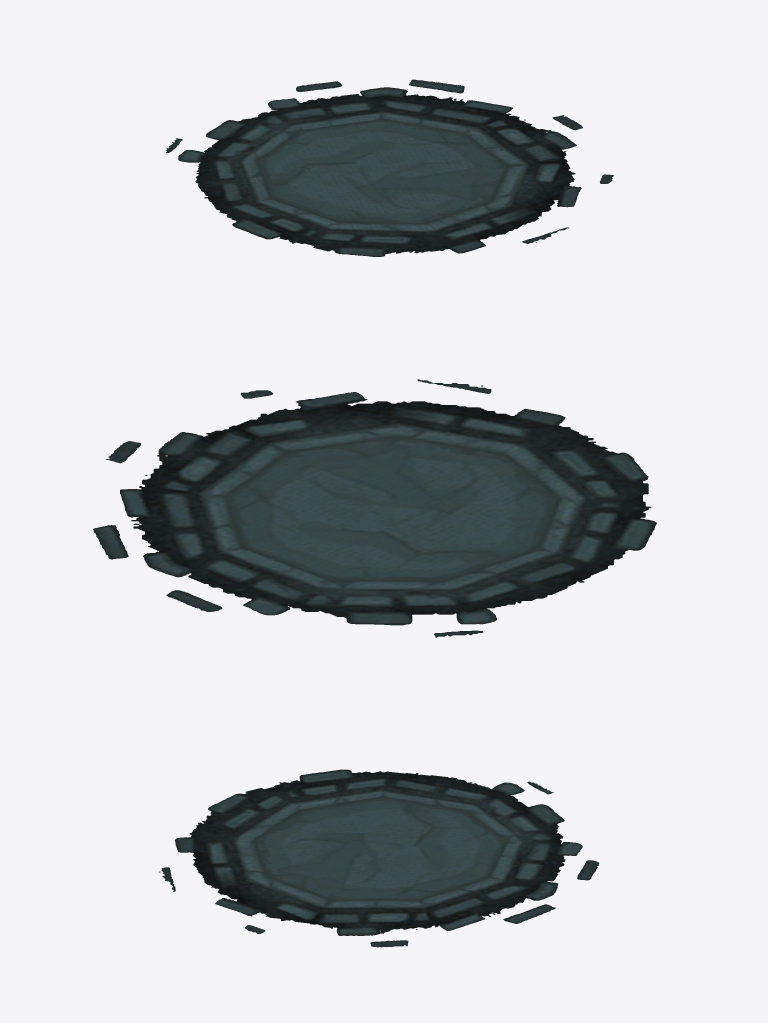
File: shrine_base.fbx
3 views of the same model, one above another, from view 1: azimuth 30°, elevation 25°; view 2: azimuth 150°, elevation 25°; view 3: azimuth 270°, elevation 25° (orthographic). The views are drawn at different scales.
Parts seen in each view (by area): view 1: Material_#11/01_-_Default; view 2: Material_#11/01_-_Default; view 3: Material_#11/01_-_Default.
Part boxes in pixels (x1,y1,x2,y2): Material_#11/01_-_Default: [166, 79, 613, 256]; Material_#11/01_-_Default: [93, 379, 656, 637]; Material_#11/01_-_Default: [159, 769, 599, 947].
Size of the model in its own units: 6.49 by 0 by 6.49.
